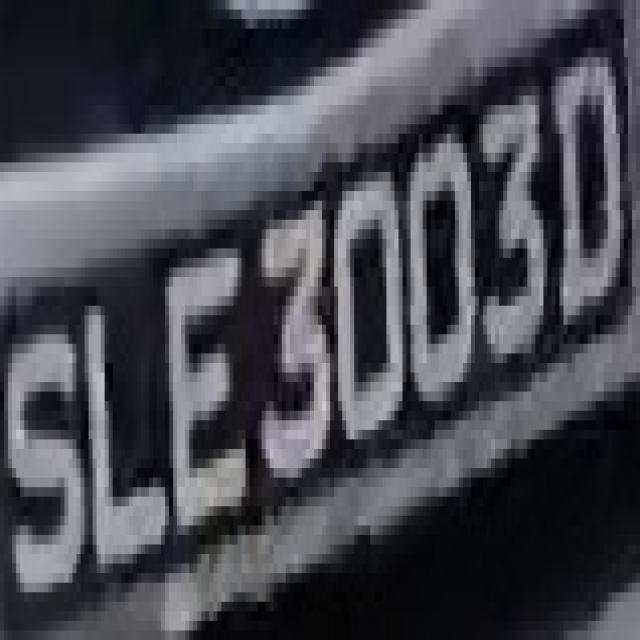0: (390, 105, 479, 439), (318, 143, 407, 468)
3: (254, 191, 334, 487), (463, 86, 543, 382)
D: (547, 48, 624, 344)
E: (153, 239, 266, 554)
L: (81, 286, 173, 582)
S: (0, 286, 85, 621)
